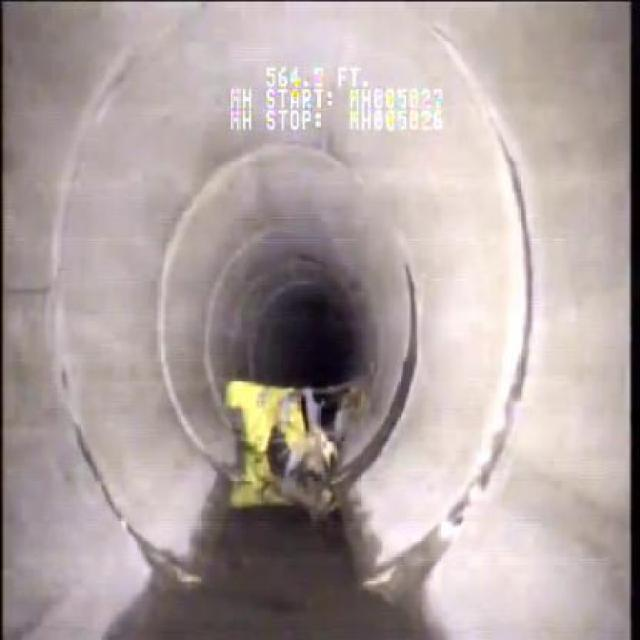Obstacle: (214, 357, 355, 491)
